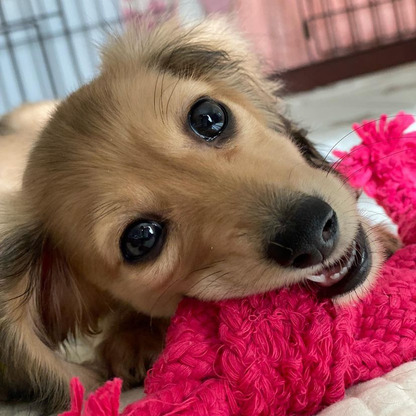dachshund: (16, 35, 384, 352)
